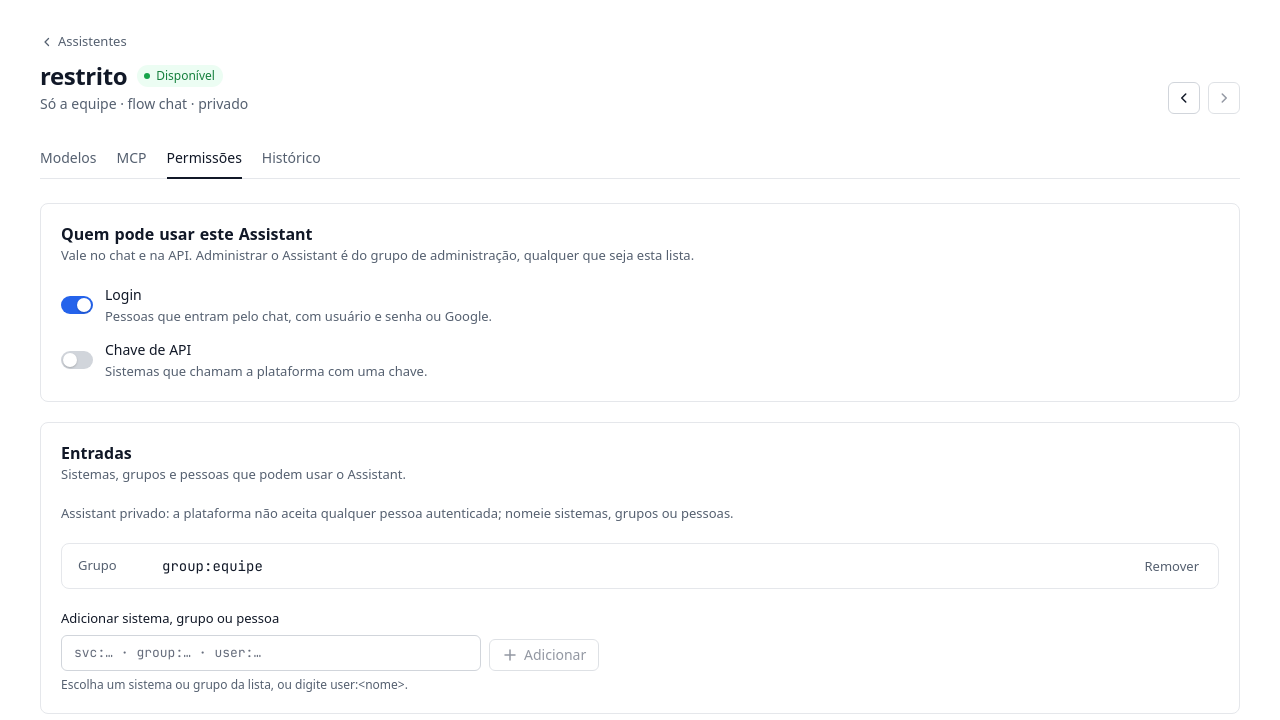
aba Permissões › não salva sem esquema nem sem entrada, explicando
Click the switch named "Login".
click(77, 306)  # box x1=61 y1=296 x2=93 y2=314
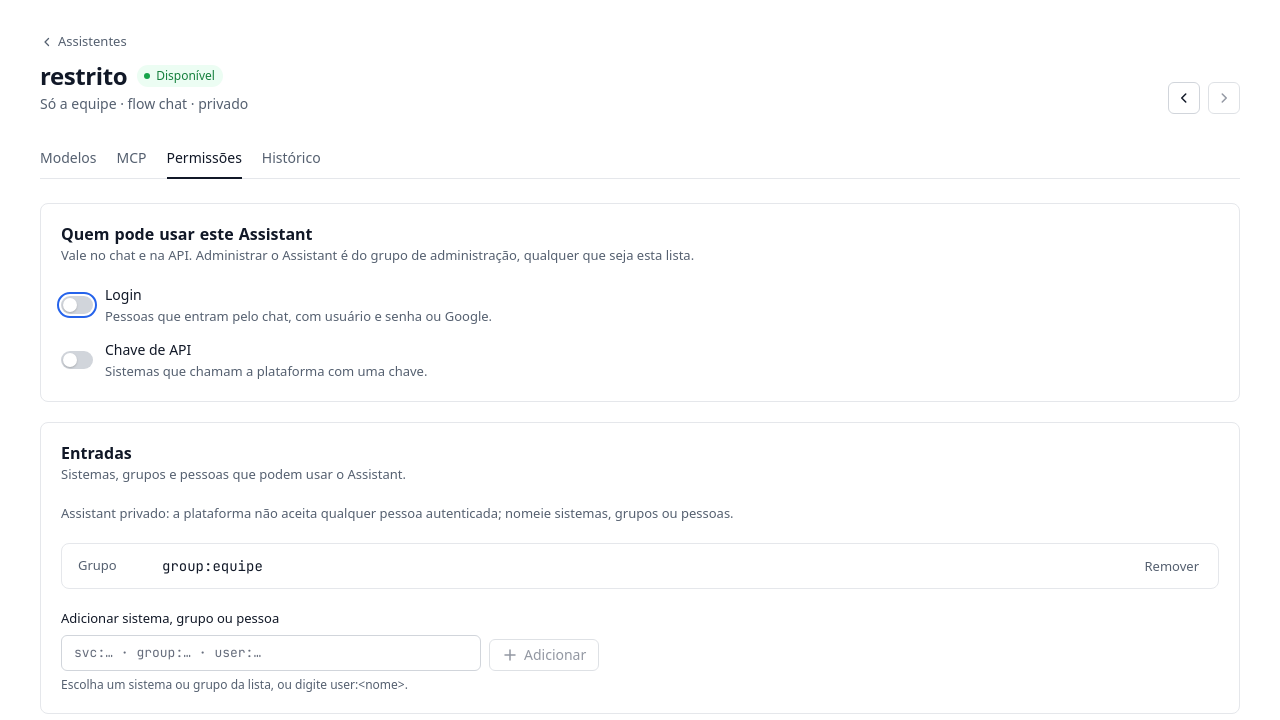
Click the switch named "Login".
click(77, 306)  # box x1=61 y1=296 x2=93 y2=314
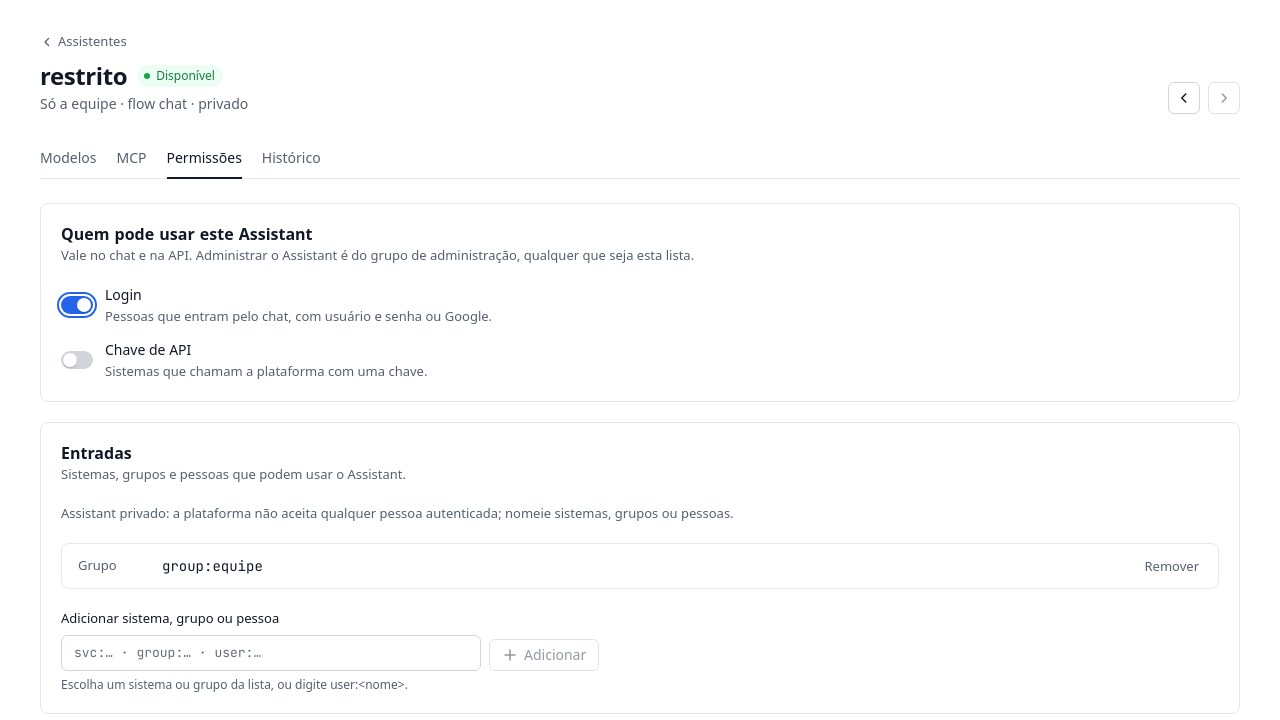
Click the button with aria-label "Remover group:equipe".
click(1172, 566)  # box x1=1134 y1=552 x2=1210 y2=580
(page scrolled)
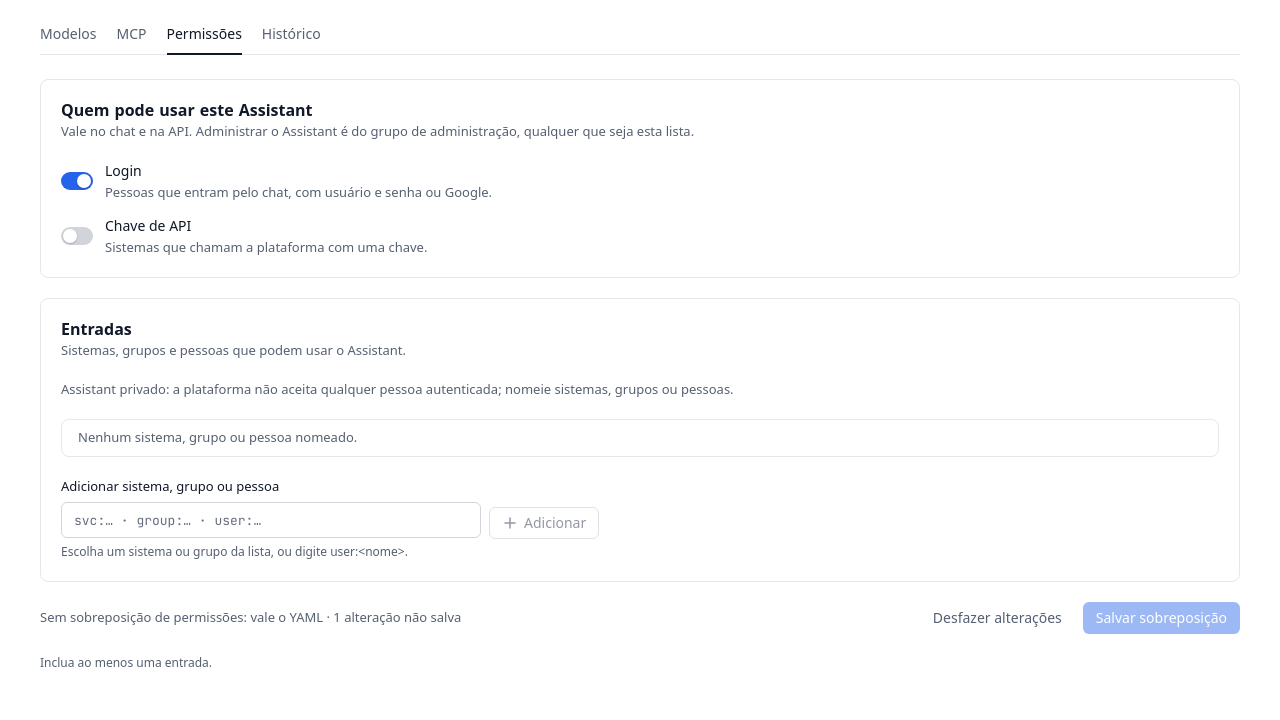
Expected: the button "Salvar sobreposição" is disabled, x1=1083 y1=602 x2=1240 y2=634
Expected: the text "Inclua ao menos uma entrada." is shown, x1=40 y1=654 x2=212 y2=671
